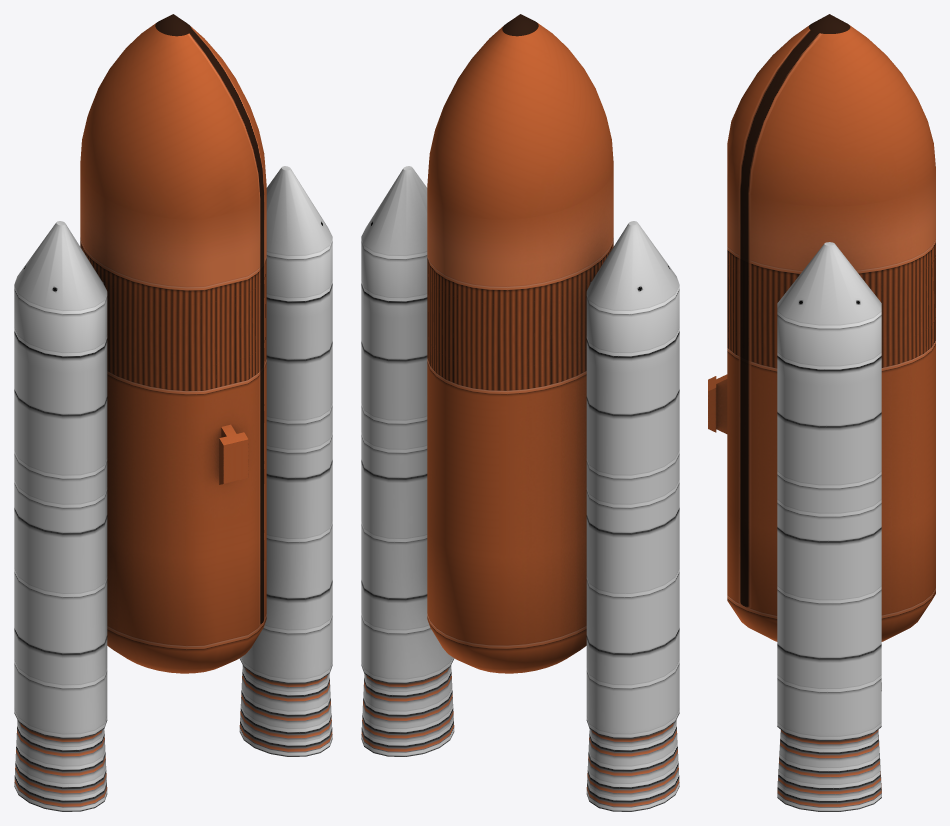
3 views of the same model, side by side, from view 1: azimuth 30°, elevation 25°; view 2: azimuth 150°, elevation 25°; view 3: azimuth 270°, elevation 25° (orthographic). The views are drawn at different scales.
Visible parts, largest first — view 1: node_id30; view 2: node_id30; view 3: node_id30.
Part boxes in pixels (x1,y1,x2,y2): node_id30: (14,14,332,811); node_id30: (361,14,679,811); node_id30: (708,14,935,811).
Size of the model in its own units: 0.1664 by 0.3978 by 0.113.
1 material, 1 textured.
